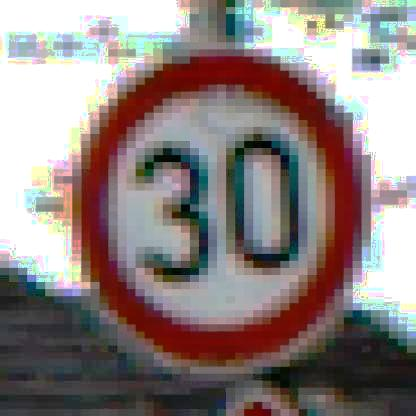Speed Limit -30-: (61, 45, 373, 376)
